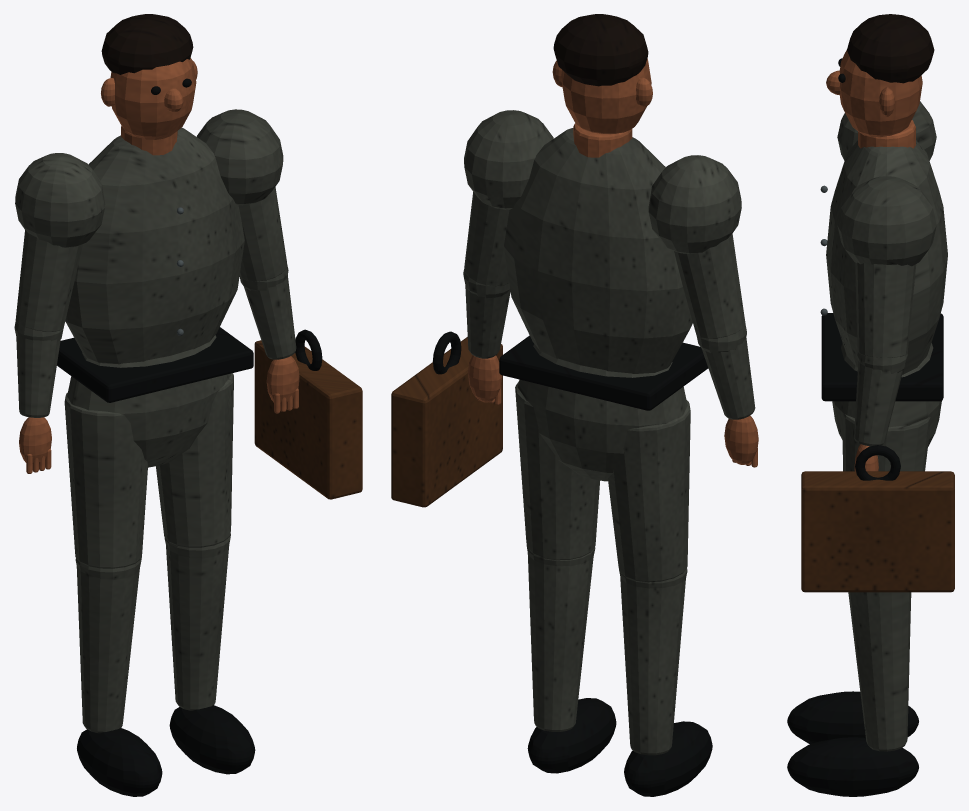
File: PROP-44C55BAB860E_lod0.glb
3 renders of one model, left to right at view 1: azimuth 30°, elevation 25°; view 2: azimuth 150°, elevation 25°; view 3: azimuth 270°, elevation 25°, orthographic. The views are drawn at different scales.
Visible parts, largest first — view 1: torso.035, thigh.034, calf.034, shoulder.035, briefcase.004, shoe.034, upper_arm.035, pelvis.034, belt.034, forearm.035, head.034, hair_cap.034 (+6 smaller); view 2: torso.035, thigh.034, calf.034, shoulder.035, briefcase.004, pelvis.034, upper_arm.035, shoe.034, belt.034, hair_cap.034, forearm.035, head.034 (+5 smaller); view 3: briefcase.004, torso.035, shoe.034, shoulder.035, calf.034, upper_arm.035, hair_cap.034, belt.034, head.034, forearm.035, thigh.034, pelvis.034 (+4 smaller).
Boxes of the visible parts, x1,y1,x2,y2 form: torso.035: [65, 127, 244, 364]; thigh.034: [64, 373, 233, 568]; calf.034: [76, 545, 229, 733]; shoulder.035: [15, 109, 283, 247]; briefcase.004: [254, 340, 362, 499]; shoe.034: [77, 705, 255, 796]; upper_arm.035: [15, 187, 286, 331]; pelvis.034: [67, 335, 230, 467]; belt.034: [57, 327, 253, 402]; forearm.035: [16, 275, 296, 417]; head.034: [110, 57, 196, 139]; hair_cap.034: [101, 14, 193, 74]; torso.035: [504, 128, 692, 373]; thigh.034: [515, 381, 690, 582]; calf.034: [527, 553, 685, 755]; shoulder.035: [464, 110, 741, 253]; briefcase.004: [391, 337, 502, 507]; pelvis.034: [517, 344, 687, 481]; upper_arm.035: [464, 192, 745, 338]; shoe.034: [527, 698, 712, 796]; belt.034: [499, 335, 708, 410]; hair_cap.034: [553, 14, 648, 86]; forearm.035: [465, 286, 755, 419]; head.034: [561, 58, 651, 133]; briefcase.004: [801, 471, 954, 592]; torso.035: [826, 140, 947, 374]; shoe.034: [787, 691, 918, 796]; shoulder.035: [837, 101, 936, 266]; calf.034: [848, 592, 911, 751]; upper_arm.035: [855, 262, 916, 357]; hair_cap.034: [847, 14, 934, 83]; belt.034: [821, 313, 943, 401]; head.034: [839, 50, 922, 137]; forearm.035: [854, 361, 903, 446]; thigh.034: [842, 414, 930, 471]; pelvis.034: [832, 342, 941, 446].
Size of the model in its own units: 0.8037 by 1.84 by 0.3711.
6 materials, 6 textured.
